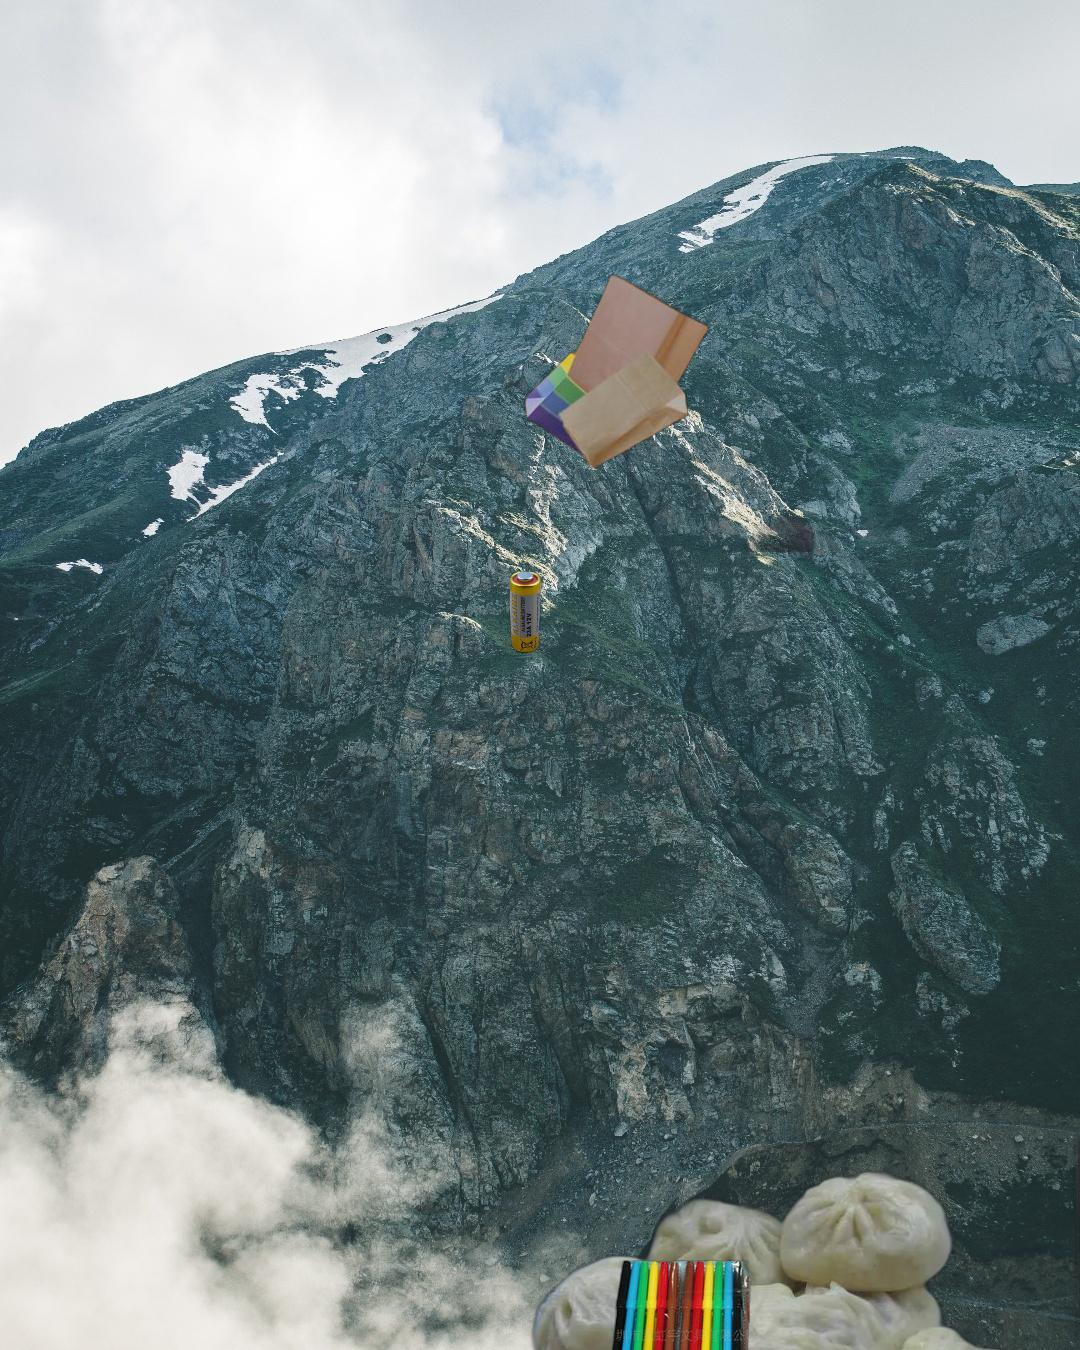battery: (506, 568, 544, 656)
biological: (526, 1165, 1040, 1350)
metal-cans: (330, 1327, 722, 1350)
paper-bag: (514, 271, 813, 552)
penholder: (978, 1063, 1080, 1350), (598, 1257, 755, 1350)
